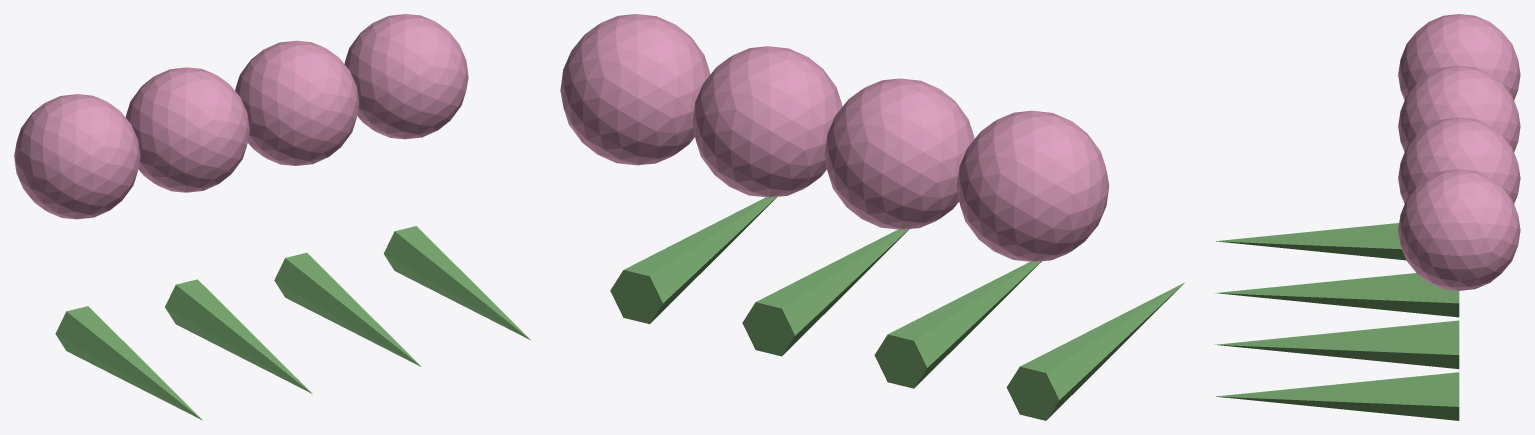
File: flower_var_0.glb
The picture shows the model from 3 angles, left to right: view 1: azimuth 30°, elevation 25°; view 2: azimuth 150°, elevation 25°; view 3: azimuth 270°, elevation 25°; orthographic projection. The views are drawn at different scales.
Parts seen in each view (by area): view 1: world; view 2: world; view 3: world.
Boxes of the visible parts, x1=… form: world: x1=14, y1=14, x2=530, y2=420; world: x1=560, y1=14, x2=1184, y2=420; world: x1=1214, y1=14, x2=1520, y2=420.
Bounding box in the file's own units: 0.4 × 0.2173 × 0.25.
